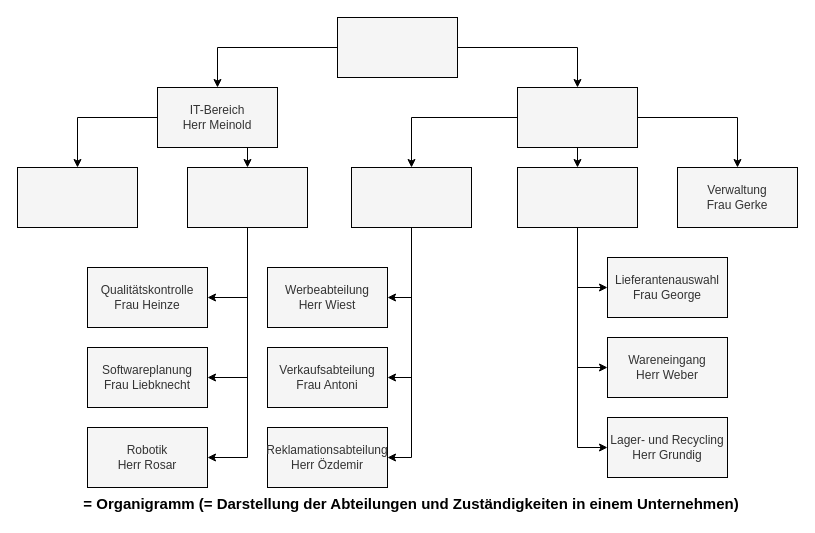
Image size: 815x533. Some labels were removed from this diagram. The shapes that lost their labels are listed below. From the top down, each one's centre as x and y in pixels, then its label:
At (397,47): "Geschäftsleiter Herr Pechtold".
At (577,117): "Kaufmännischer Bereich Frau Peters".
At (77,197): "Serviceentwicklung Herr Schreiner".
At (247,197): "Softwareentwicklung Herr Kleiner".
At (411,197): "Vertrieb Herr Stenz".
At (577,197): "Einkauf Frau Weinschröter".
